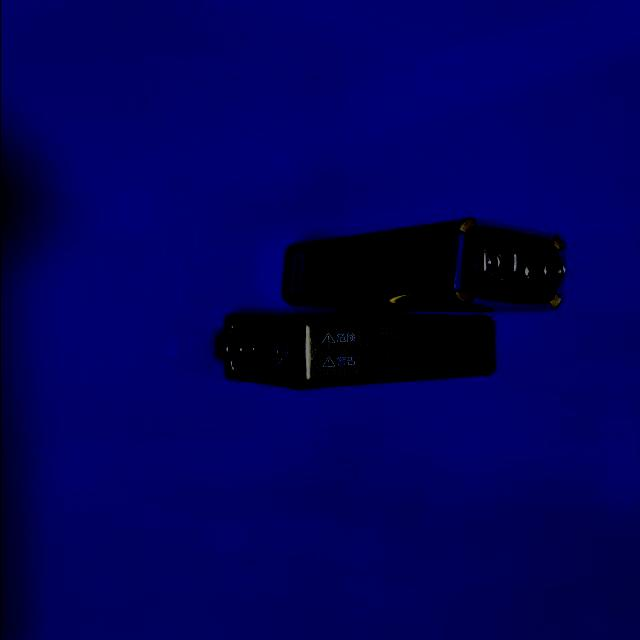9V: (282, 217, 567, 313), (215, 314, 494, 390)
